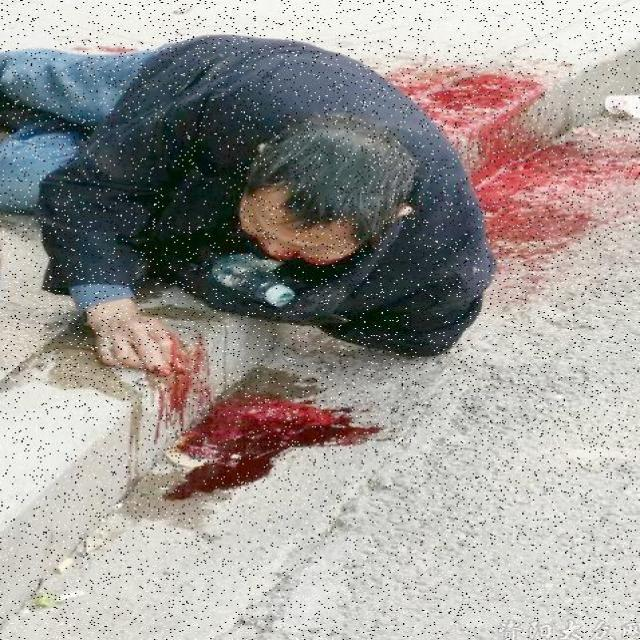fall: (0, 40, 491, 356)
